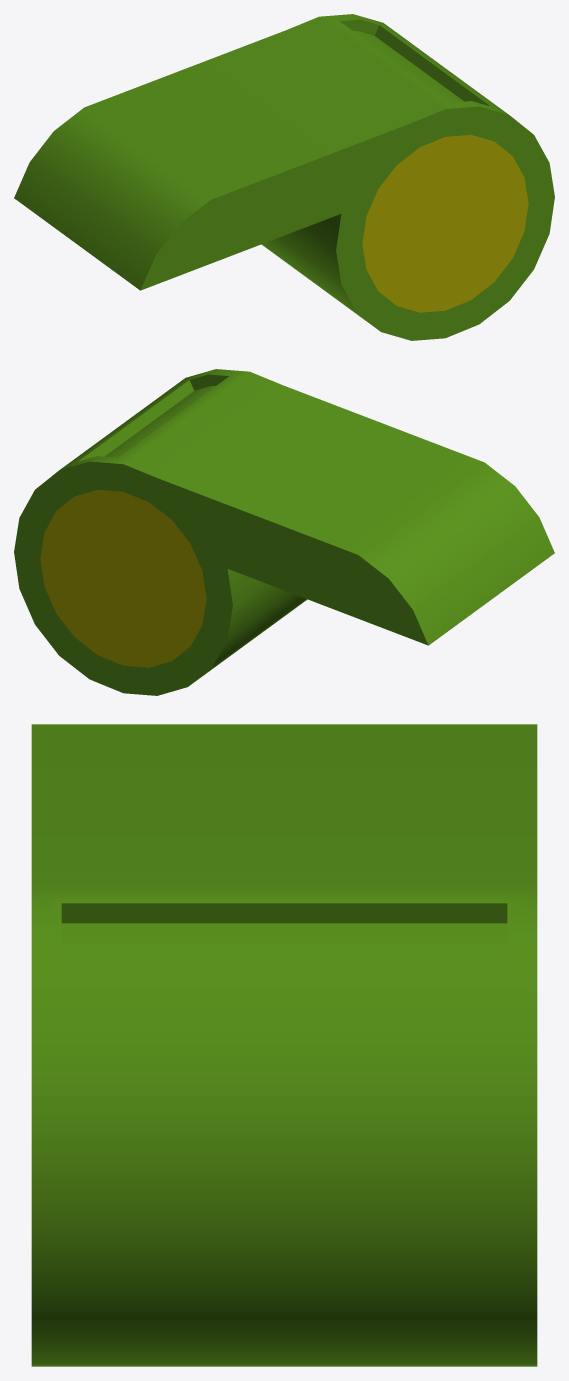
Rendered from Whistle.fbx.
The picture shows the model from 3 angles, top to bottom: view 1: azimuth 30°, elevation 25°; view 2: azimuth 150°, elevation 25°; view 3: azimuth 270°, elevation 25°; orthographic projection. The views are drawn at different scales.
Visible parts, largest first — view 1: Whistle; view 2: Whistle; view 3: Whistle.
Part boxes in pixels (<box>): Whistle: <box>14,14,554,340</box>; Whistle: <box>14,369,554,695</box>; Whistle: <box>31,724,537,1366</box>.
Size of the model in its own units: 15.92 by 8.41 by 8.41.
